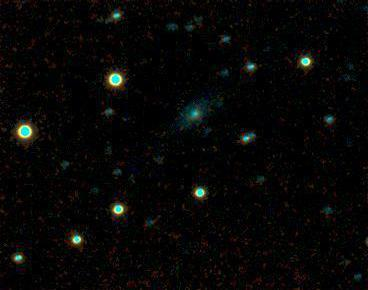star: (111, 155, 141, 185)
